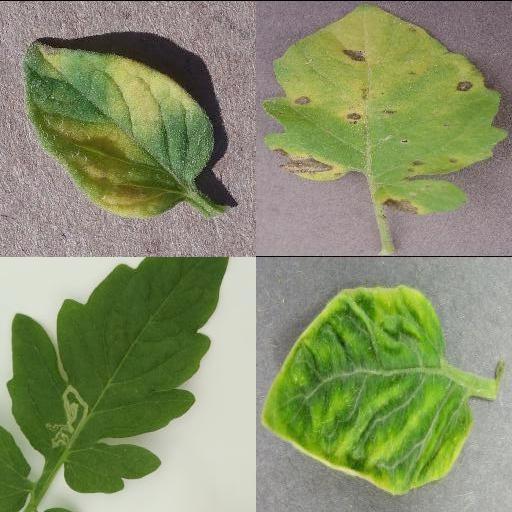Leaf Miner: (6, 256, 229, 496)
Leaf Mold: (21, 39, 213, 217)
Septoria: (263, 3, 508, 183)
Yellow Leaf Curl Virus: (261, 284, 475, 496)
